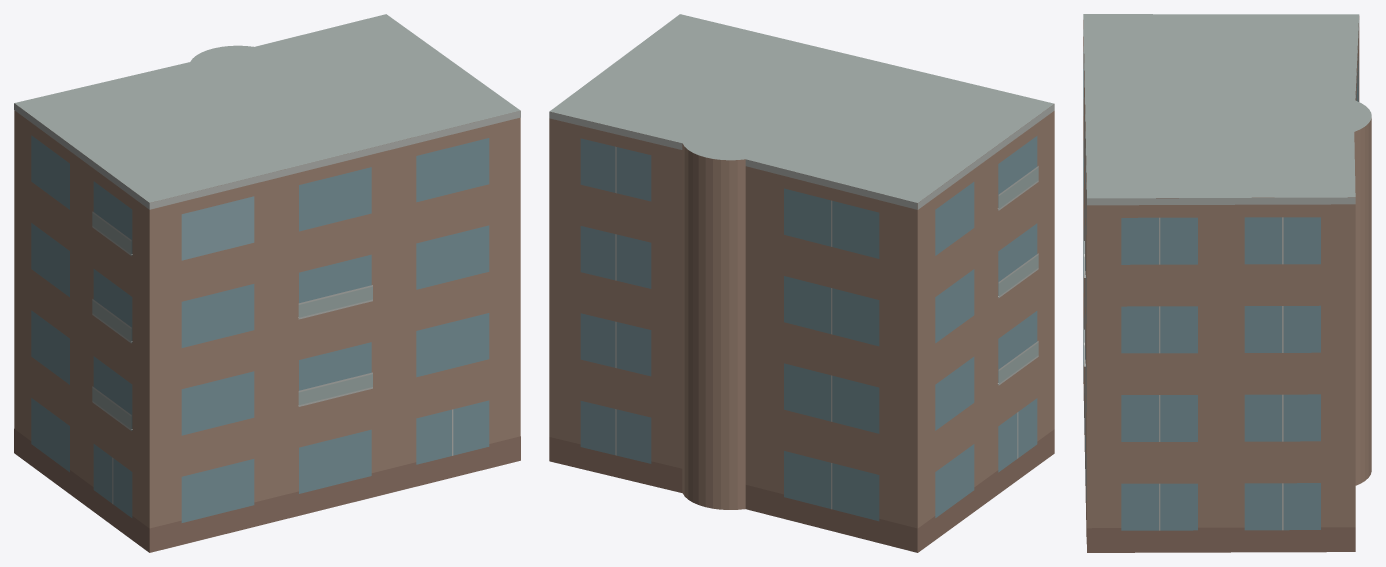
The model's file is survey-upis-32874041.glb.
3 renders of one model, left to right at view 1: azimuth 30°, elevation 25°; view 2: azimuth 150°, elevation 25°; view 3: azimuth 270°, elevation 25°, orthographic.
Parts seen in each view (by area): view 1: survey-upis-32874041.tmp; view 2: survey-upis-32874041.tmp; view 3: survey-upis-32874041.tmp.
Part boxes in pixels (left/top/right/bottom): survey-upis-32874041.tmp: left=14, top=14, right=520, bottom=552; survey-upis-32874041.tmp: left=549, top=14, right=1054, bottom=552; survey-upis-32874041.tmp: left=1083, top=14, right=1371, bottom=552.
Size of the model in its own units: 13.87 by 12.4 by 9.15.
